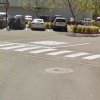crosswalk: (0, 42, 100, 60)
